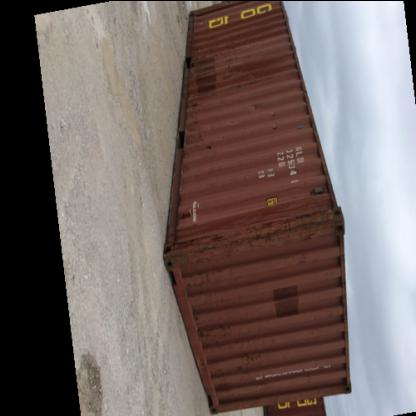Damage: (251, 197, 339, 245), (222, 26, 270, 90), (178, 223, 249, 257), (233, 344, 278, 378), (188, 44, 219, 92), (288, 250, 316, 280), (192, 89, 209, 130), (211, 316, 234, 344), (271, 108, 289, 134), (179, 201, 203, 219), (197, 142, 226, 154), (250, 94, 266, 113)
